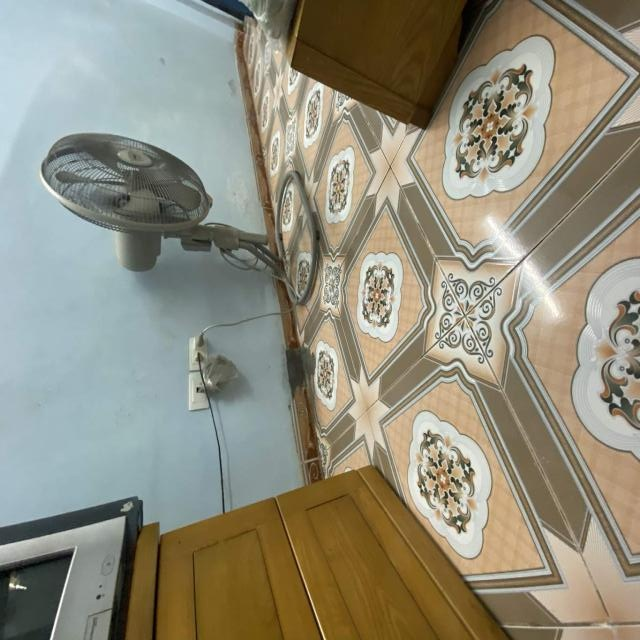outlet: (189, 372, 210, 412), (189, 336, 208, 371)
